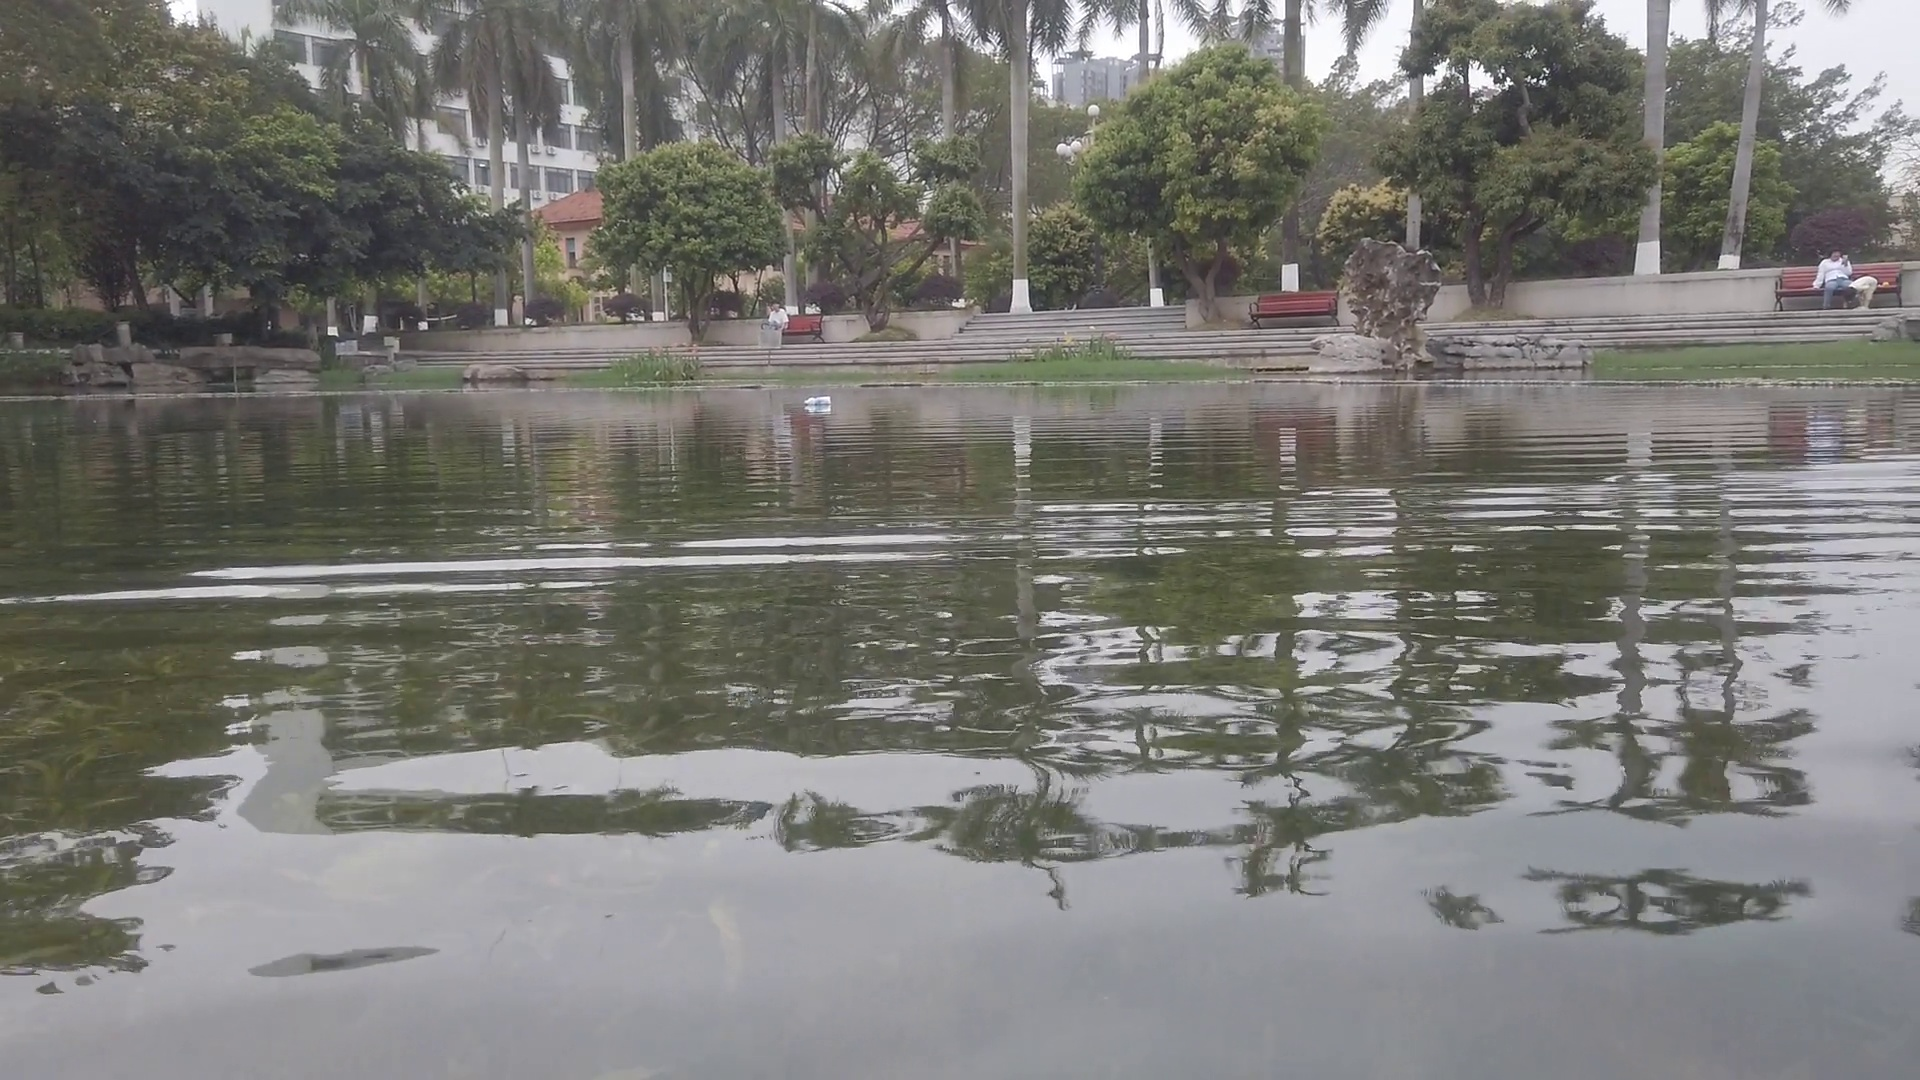bottle: (802, 396, 833, 405)
